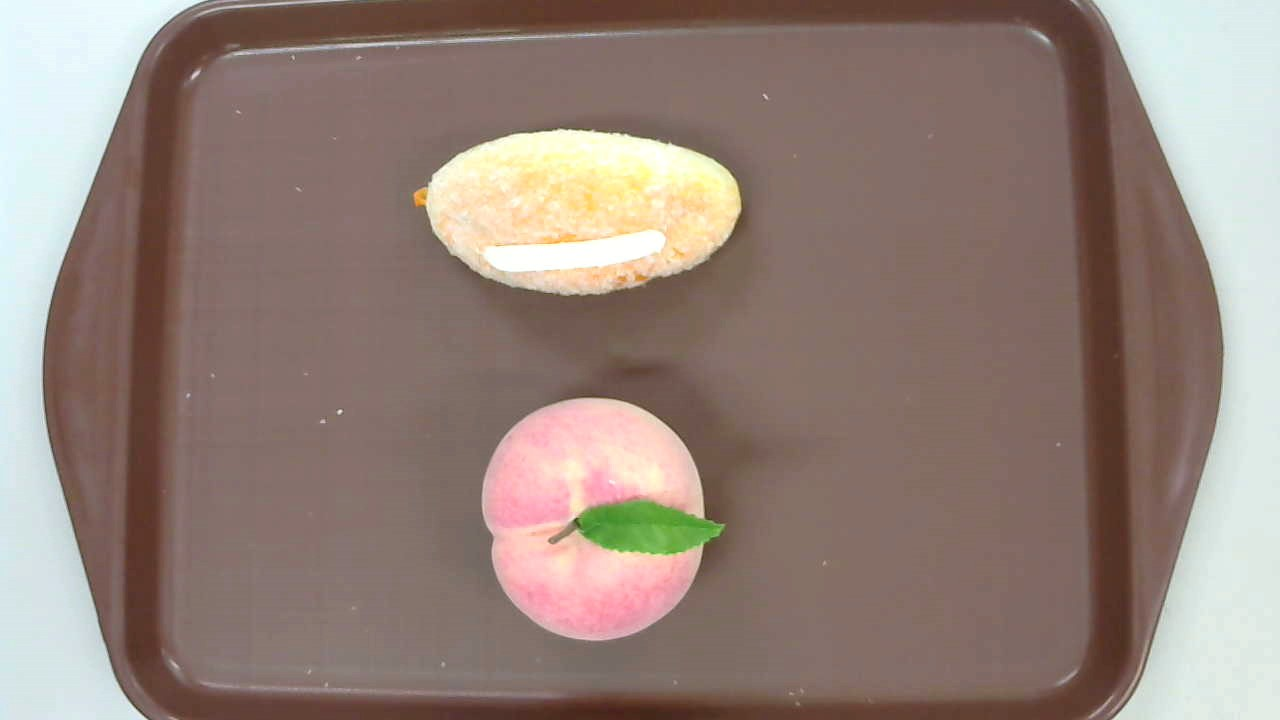coconut: (413, 129, 743, 297)
peach: (481, 397, 725, 640)
